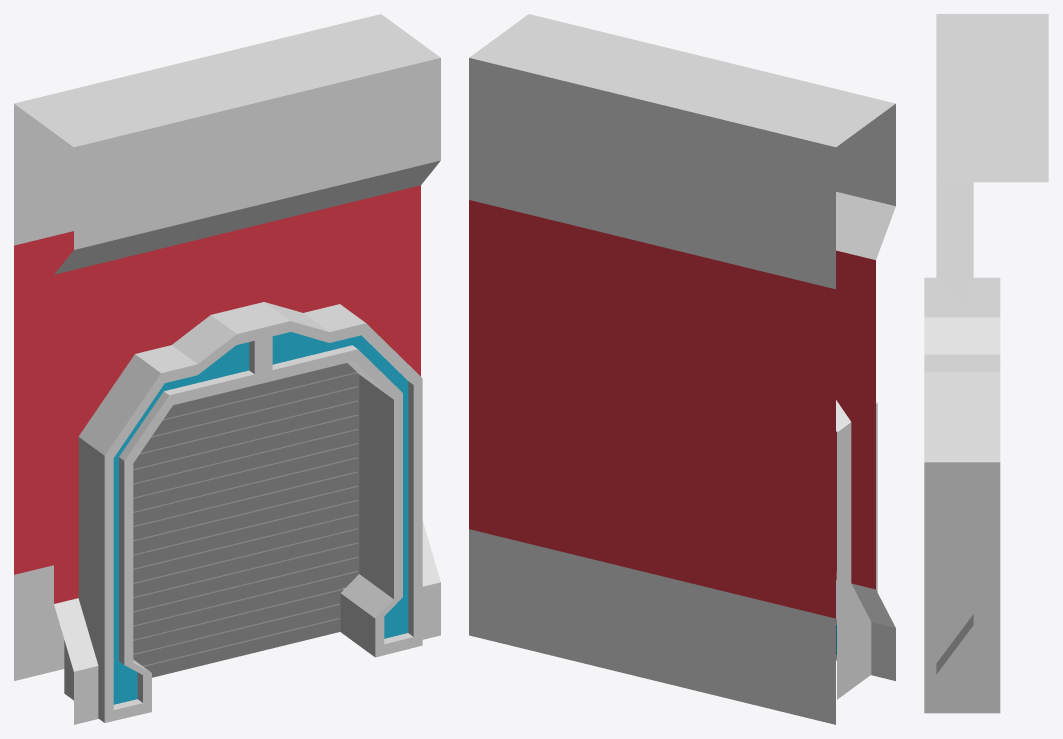
File: Door.fbx
3 renders of one model, left to right at view 1: azimuth 30°, elevation 25°; view 2: azimuth 150°, elevation 25°; view 3: azimuth 270°, elevation 25°, orthographic. The views are drawn at different scales.
Parts seen in each view (by area): view 1: Door; view 2: Door; view 3: Door.
Part boxes in pixels (bbox=[...]): Door: bbox=[14, 14, 440, 724]; Door: bbox=[469, 14, 895, 724]; Door: bbox=[924, 14, 1048, 713].
Size of the model in its own units: 2.44 by 3.67 by 0.7607.
